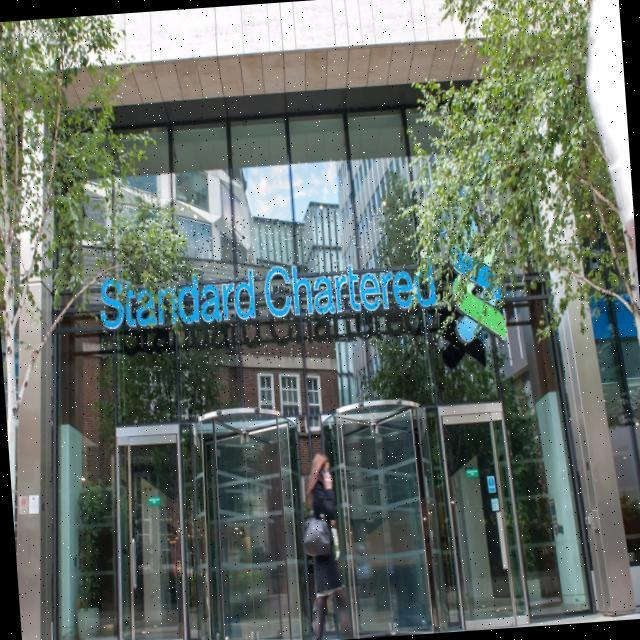Standard Chartered: (93, 197, 508, 375)
